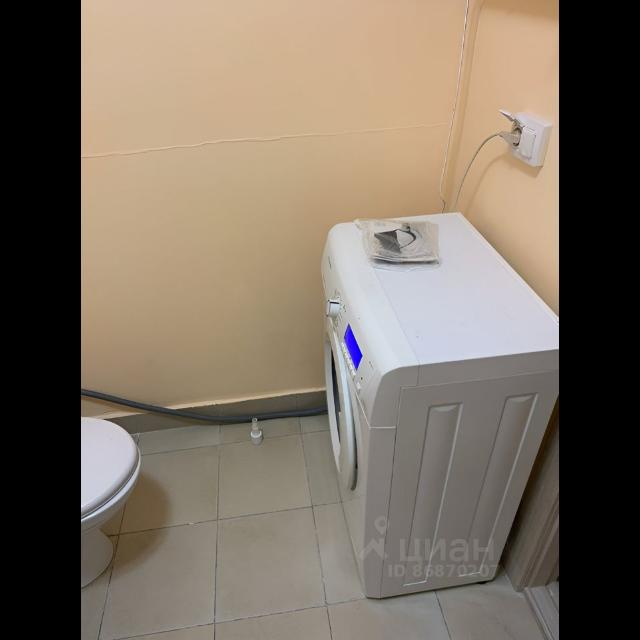Washing-Machine: (320, 207, 560, 591)
